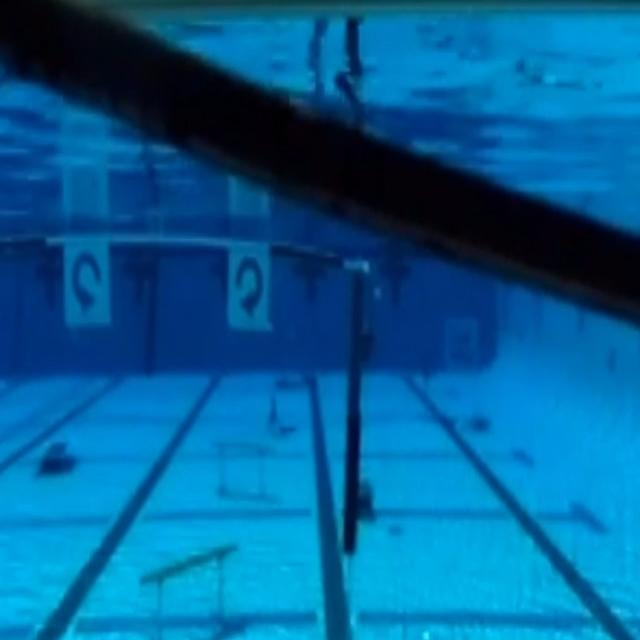Gate: (6, 225, 372, 552)
